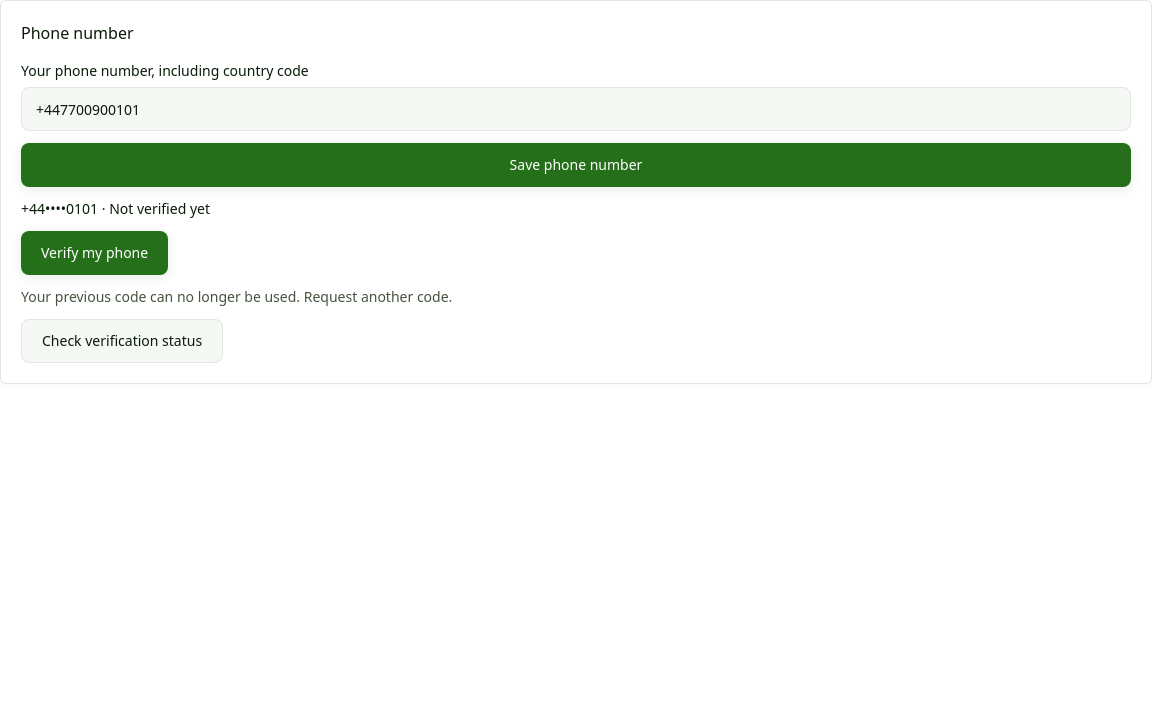
Scenario: replaces terminal status after requesting a fresh code without retaining a stale expiry hint
Expected: the text "previous code can no longer be used" is shown, [21,287,452,306]
Click the button "Verify my phone". click: (95, 253)
box: [21,231,168,275]
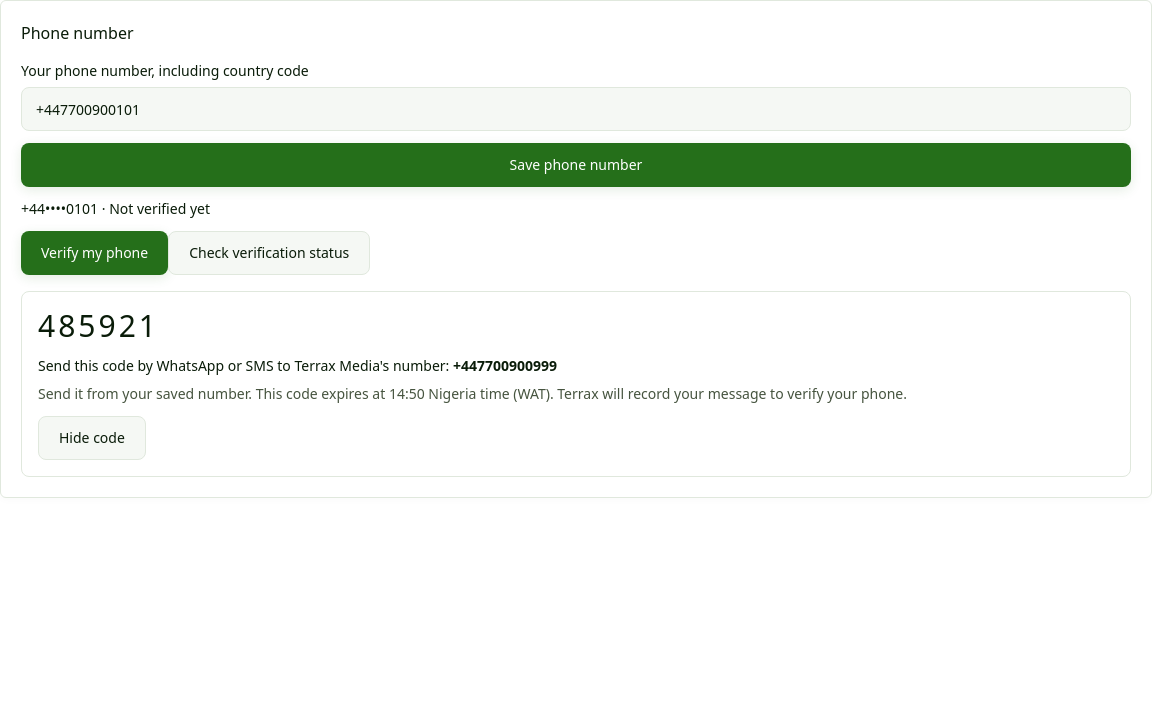
Now the text "485921" is shown, box [38,305,159,346]
Now the text "previous code can no longer be used" is gone
Click the button "Hide code". click: (92, 438)
box: [38,416,146,460]
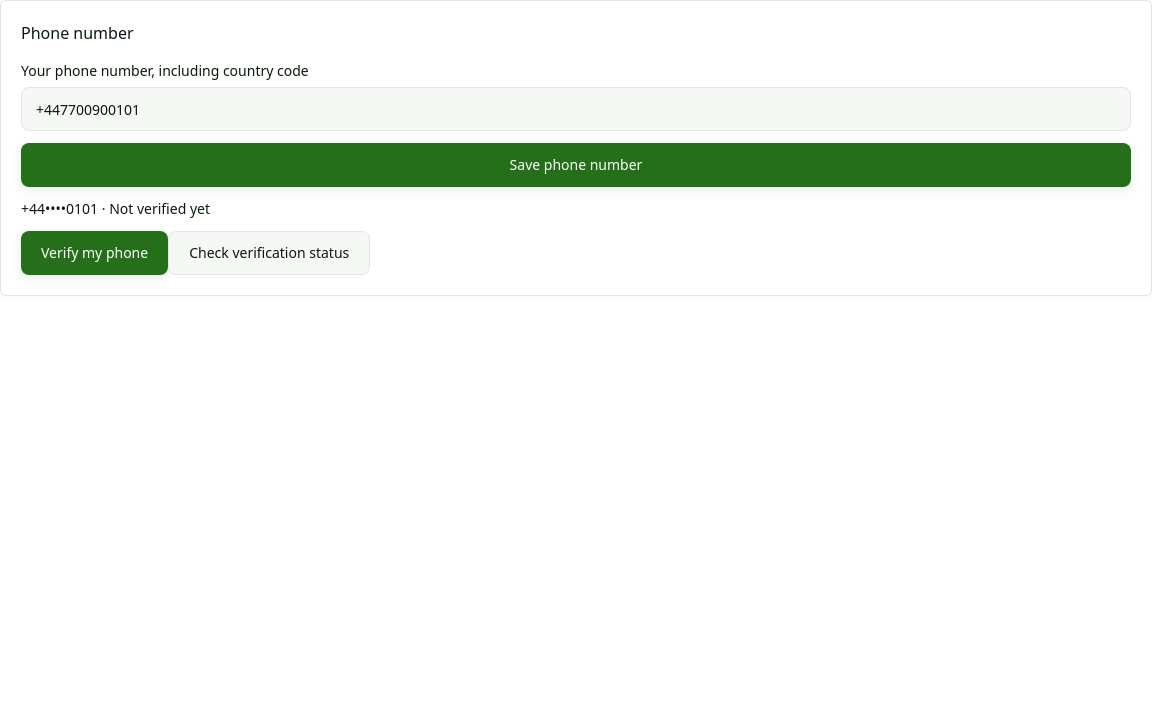
Expected: the text "previous code can no longer be used" is not shown
Now the text "485921" is gone
